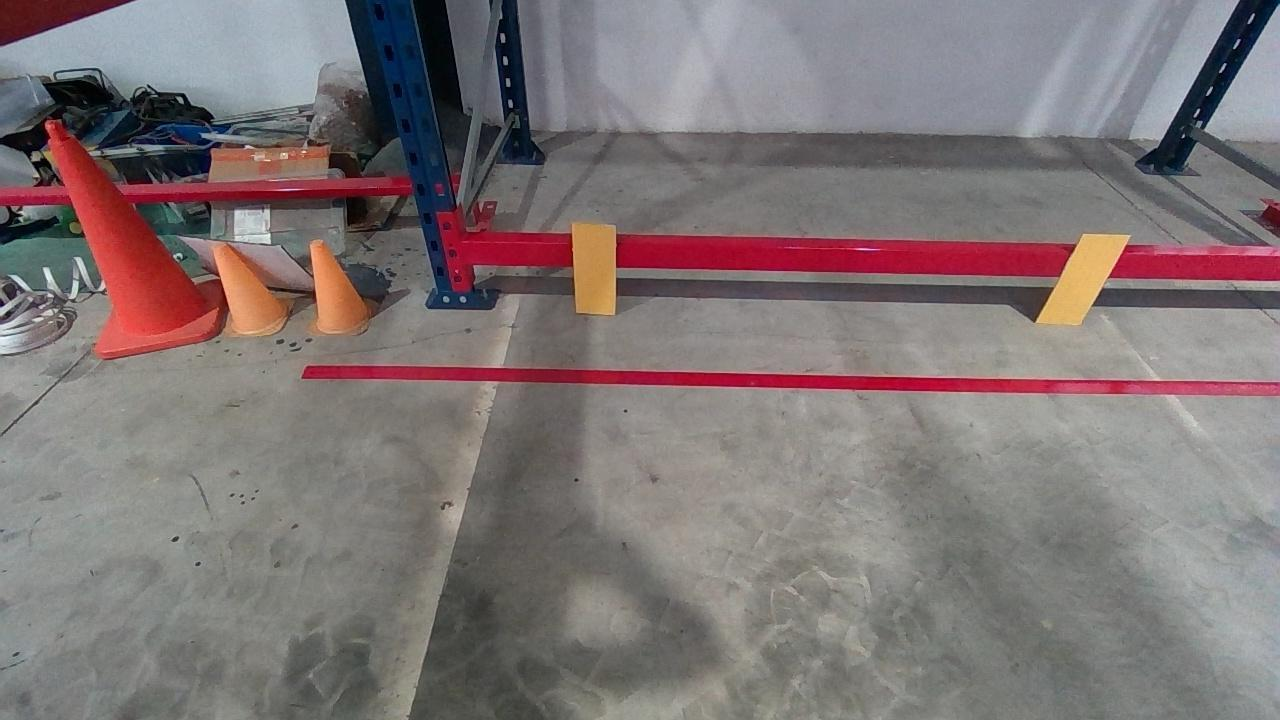h_rack: (463, 243, 1278, 281)
orange_strip: (1036, 233, 1134, 324), (570, 221, 617, 313)
red_line: (300, 364, 1278, 396)
